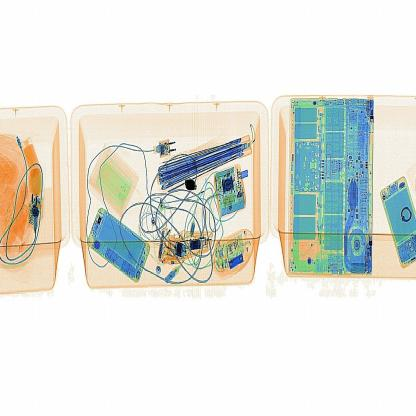scissors: (180, 168, 204, 202)
